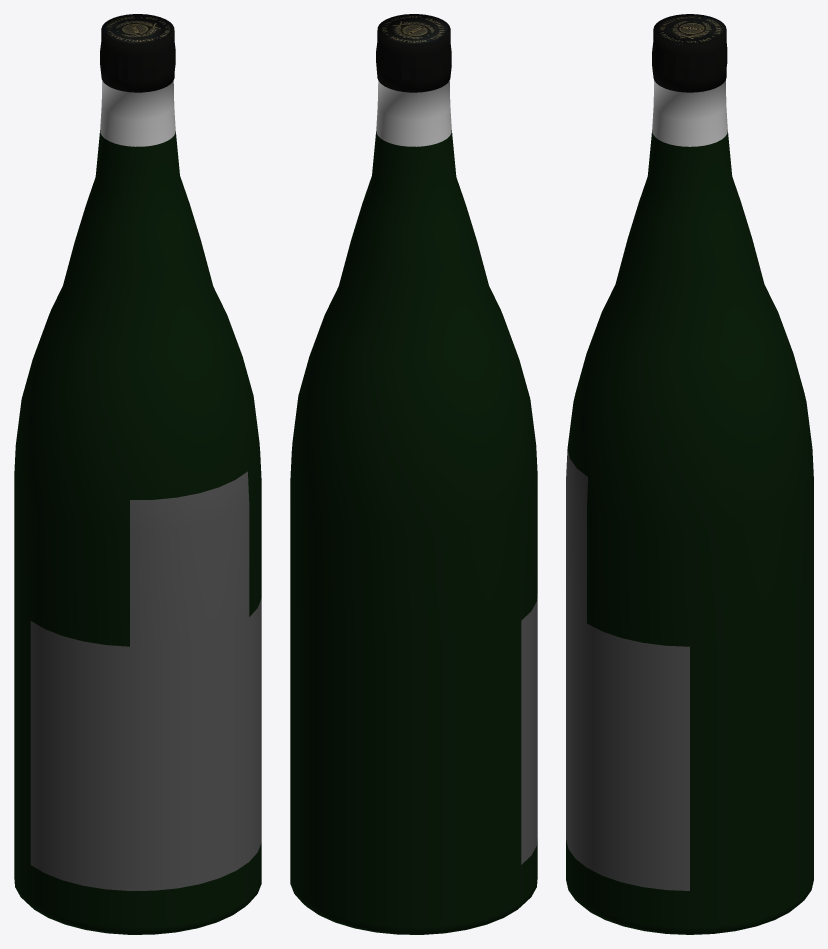
The model's file is bottle.fbx.
3 views of the same model, side by side, from view 1: azimuth 30°, elevation 25°; view 2: azimuth 150°, elevation 25°; view 3: azimuth 270°, elevation 25° (orthographic).
Parts seen in each view (by area): view 1: Cylinder; view 2: Cylinder; view 3: Cylinder.
Boxes of the visible parts, <box> form: Cylinder: <box>14,14,261,934</box>; Cylinder: <box>290,14,537,934</box>; Cylinder: <box>566,14,813,934</box>.
Size of the model in its own units: 162 by 616 by 162.
